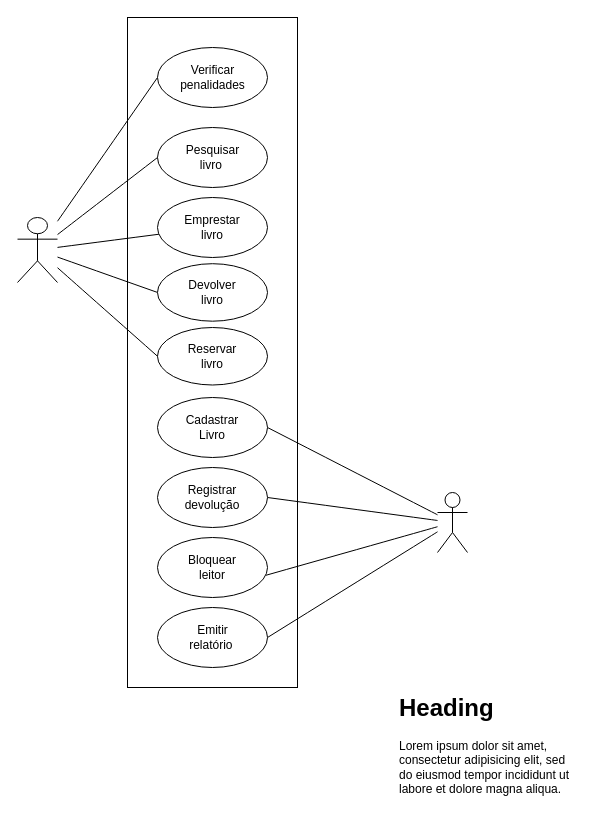
The diagram is 595 pixels wide and 828 high, and some of its shapes have lost their labels. Each missing label, with the centre of its shape:
Bibliotecario: point 452,522
Leitor: point 37,249
